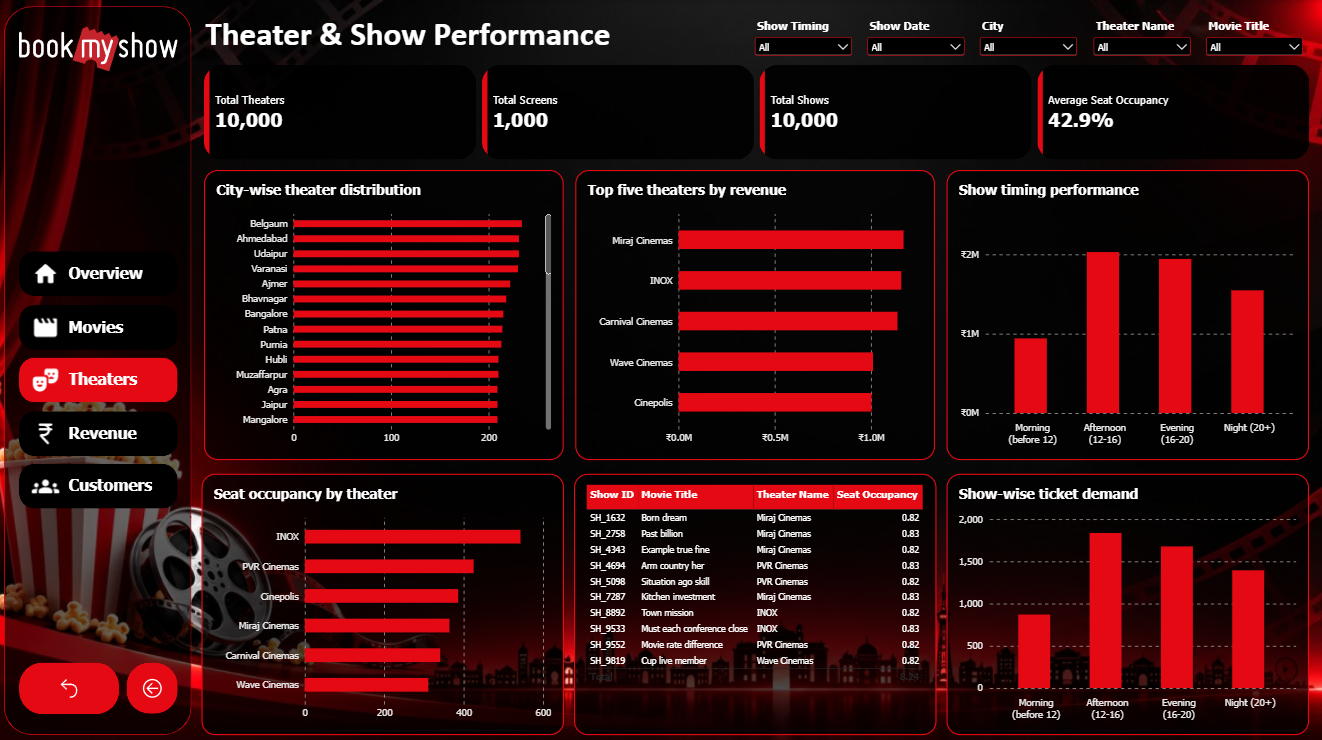

The page's visual inventory and layout, read from the dashboard file:
{"tool":"powerbi","page":{"name":"Theater & Show Performance","canvas":[1920,1080],"ordinal":2},"visuals":[{"type":"shape","box":[7.9,9,271.4,1055],"z":0},{"type":"slicer","title":"Language","fields":{"Values":["bookmyshow_db movies.title"]},"box":[1742.7,26.8,150,56.1],"z":0,"group":"g3"},{"type":"image","box":[28.3,19.9,229.8,101.3],"z":1000,"group":"g1"},{"type":"slicer","title":"Language","fields":{"Values":["bookmyshow_db theaters.name"]},"box":[1579.4,26.8,150.2,56.1],"z":1000,"group":"g3"},{"type":"cardVisual","fields":{"Data":["_Measures.Total Theaters","_Measures.Total Screens","_Measures.Total Shows","_Measures.Average Seat Occupancy"]},"box":[296.8,94.1,1603.4,137.5],"z":1000},{"type":"group","id":"g1","title":"Group 2","box":[28.3,19.9,230.7,716.6],"z":2000},{"type":"slicer","title":"Language","fields":{"Values":["bookmyshow_db theaters.city"]},"box":[1416,26.8,150.2,56.1],"z":2000,"group":"g3"},{"type":"actionButton","box":[29.1,363.7,229.8,65.1],"z":2000,"group":"g2"},{"type":"slicer","title":"Language","fields":{"Values":["bookmyshow_db shows.show_date"]},"box":[1252.7,26.8,150.2,56.1],"z":3000,"group":"g3"},{"type":"barChart","title":"City-wise theater distribution","fields":{"Category":["bookmyshow_db theaters.city"],"Y":["_Measures.Total Theaters"]},"box":[296.8,246.1,521.2,419.8],"z":3000},{"type":"actionButton","box":[29,440.6,230,65.1],"z":3000,"group":"g2"},{"type":"slicer","title":"Language","fields":{"Values":["bookmyshow_db shows.Show Timing"]},"box":[1089.4,26.8,150.2,56.1],"z":4000,"group":"g3"},{"type":"columnChart","title":"Show timing performance ","fields":{"Category":["bookmyshow_db shows.Show Timing"],"Y":["_Measures.Total Revenue"]},"box":[1371.7,246.1,524.8,419.8],"z":4000},{"type":"actionButton","box":[29.1,517.5,229.8,65.1],"z":4000,"group":"g2"},{"type":"actionButton","box":[29.1,594.4,229.8,65.1],"z":5000,"group":"g2"},{"type":"barChart","title":"Seat occupancy by theater ","fields":{"Category":["bookmyshow_db theaters.name"],"Y":["CountNonNull(bookmyshow_db shows.Seat Occupancy %)"]},"box":[293.9,685.9,525,378.2],"z":5000},{"type":"actionButton","box":[29.1,671.3,229.8,65.1],"z":6000,"group":"g2"},{"type":"tableEx","title":"Genre distribution","fields":{"Values":["Top 10 Shows by Occupancy.Show ID","Top 10 Shows by Occupancy.Movie Title","Top 10 Shows by Occupancy.Theater Name","Sum(Top 10 Shows by Occupancy.Seat Occupancy %)"]},"box":[833.2,685.9,525,378.2],"z":6000},{"type":"columnChart","title":"Show-wise ticket demand","fields":{"Category":["bookmyshow_db shows.Show Timing"],"Y":["_Measures.Total Tickets Sold"]},"box":[1372.4,685.9,525,378.2],"z":7000},{"type":"group","id":"g2","title":"Group 1","box":[29,363.7,230,372.8],"z":7001,"group":"g1"},{"type":"textbox","box":[298.6,19.9,704,63.3],"z":8000},{"type":"actionButton","box":[28.3,959.2,145,75],"z":9000},{"type":"actionButton","box":[184.2,960,74.2,74.2],"z":10000},{"type":"barChart","title":"Top five theaters by revenue","fields":{"Category":["bookmyshow_db theaters.name"],"Y":["_Measures.Total Revenue"]},"box":[834.3,246.1,521.2,419.8],"z":11000},{"type":"group","id":"g3","title":"Group 3","box":[1089.4,26.8,803.3,56.1],"z":12000}]}

Visuals, with their boxes on the page's 1920x1080 design canvas (x1, y1, x2, y2). These are canvas units, not pixel positions in the 1322x740 screenshot, which may show the page scaled, cropped or inside an application window:
shape: region(8, 9, 279, 1064)
"Language" slicer: region(1743, 27, 1893, 83)
image: region(28, 20, 258, 121)
"Language" slicer: region(1579, 27, 1730, 83)
cardVisual - _Measures.Total Theaters x _Measures.Total Screens: region(297, 94, 1900, 232)
"Group 2" group: region(28, 20, 259, 736)
"Language" slicer: region(1416, 27, 1566, 83)
actionButton: region(29, 364, 259, 429)
"Language" slicer: region(1253, 27, 1403, 83)
"City-wise theater distribution" barChart: region(297, 246, 818, 666)
actionButton: region(29, 441, 259, 506)
"Language" slicer: region(1089, 27, 1240, 83)
"Show timing performance " columnChart: region(1372, 246, 1896, 666)
actionButton: region(29, 518, 259, 583)
actionButton: region(29, 594, 259, 660)
"Seat occupancy by theater " barChart: region(294, 686, 819, 1064)
actionButton: region(29, 671, 259, 736)
"Genre distribution" tableEx: region(833, 686, 1358, 1064)
"Show-wise ticket demand" columnChart: region(1372, 686, 1897, 1064)
"Group 1" group: region(29, 364, 259, 736)
textbox: region(299, 20, 1003, 83)
actionButton: region(28, 959, 173, 1034)
actionButton: region(184, 960, 258, 1034)
"Top five theaters by revenue" barChart: region(834, 246, 1356, 666)
"Group 3" group: region(1089, 27, 1893, 83)
